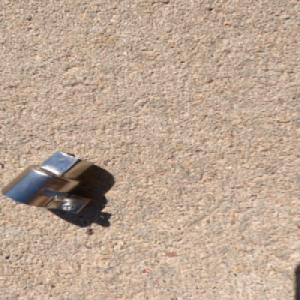MetalPart: (0, 149, 96, 214)
